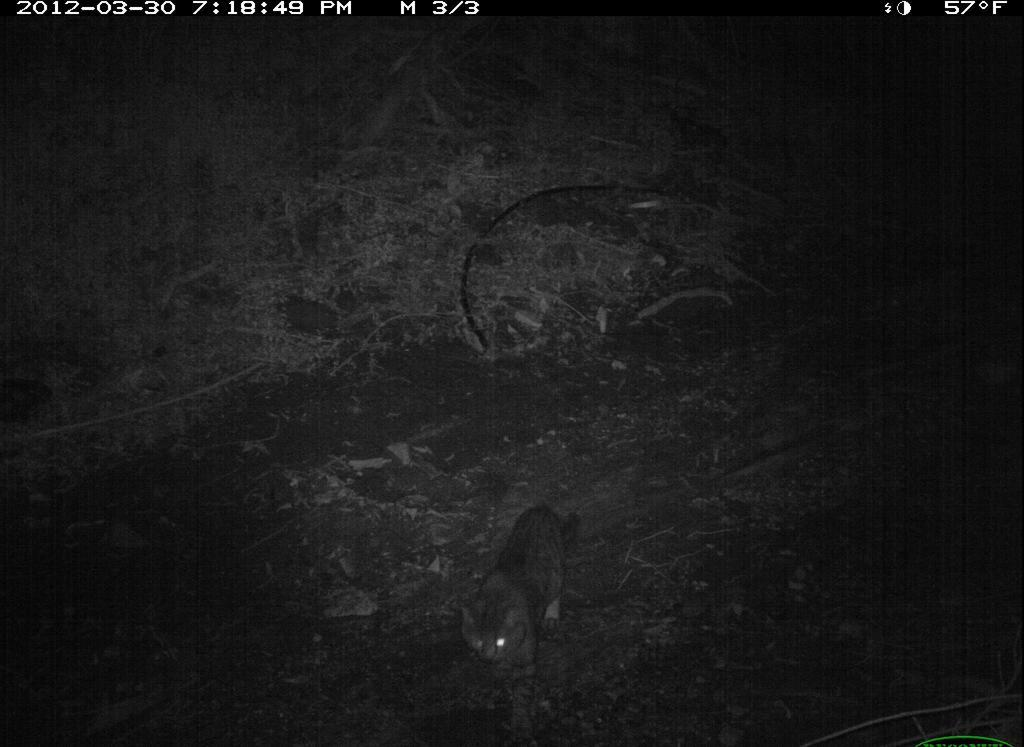cat: (450, 495, 589, 743)
